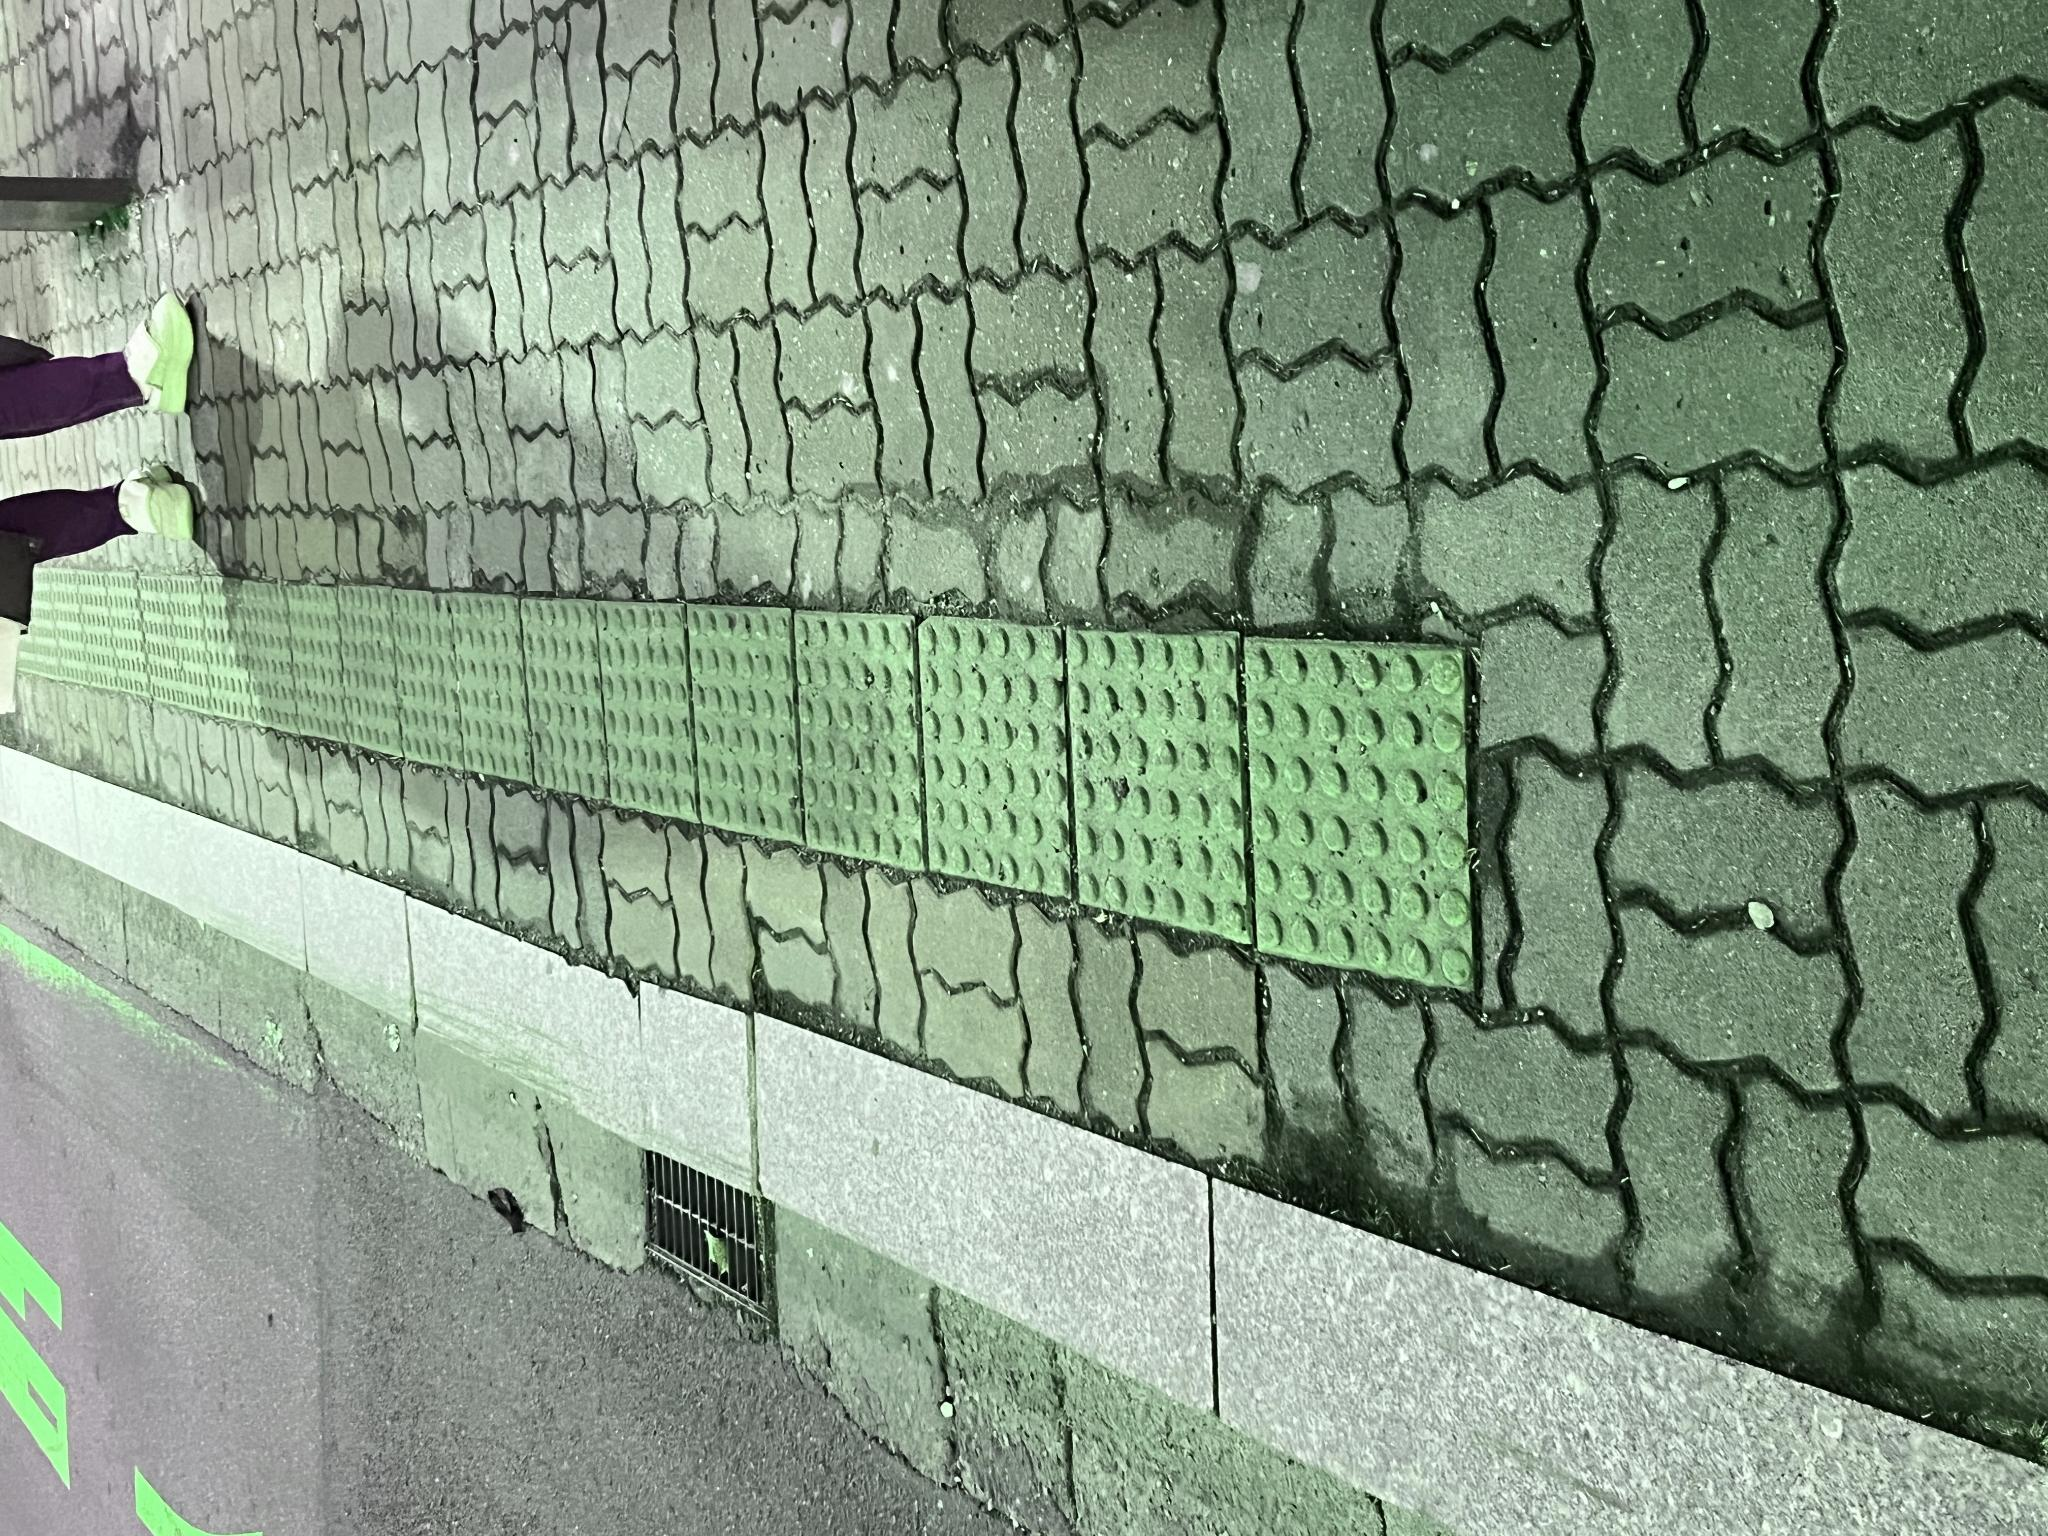Stop block normal: (545, 1246, 897, 1470), (593, 1068, 908, 1246), (640, 921, 919, 1071), (664, 795, 922, 923), (693, 689, 929, 799), (716, 597, 934, 695)
